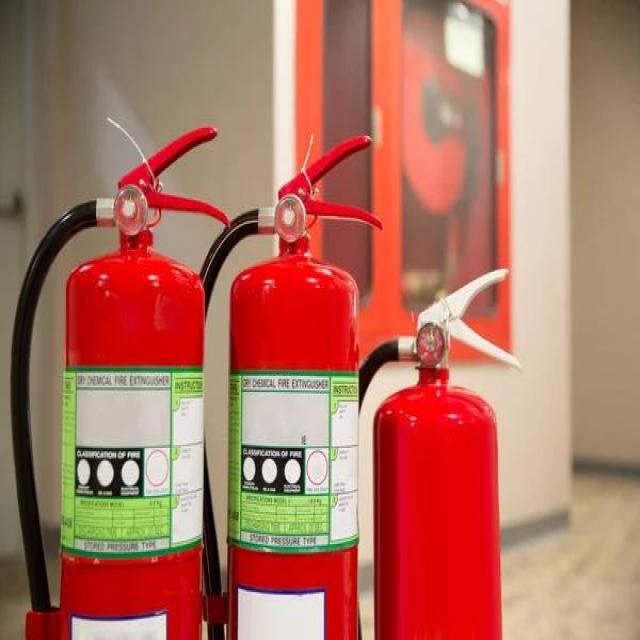fire_extinguisher: (6, 119, 230, 638), (180, 133, 384, 638), (317, 261, 527, 638)
